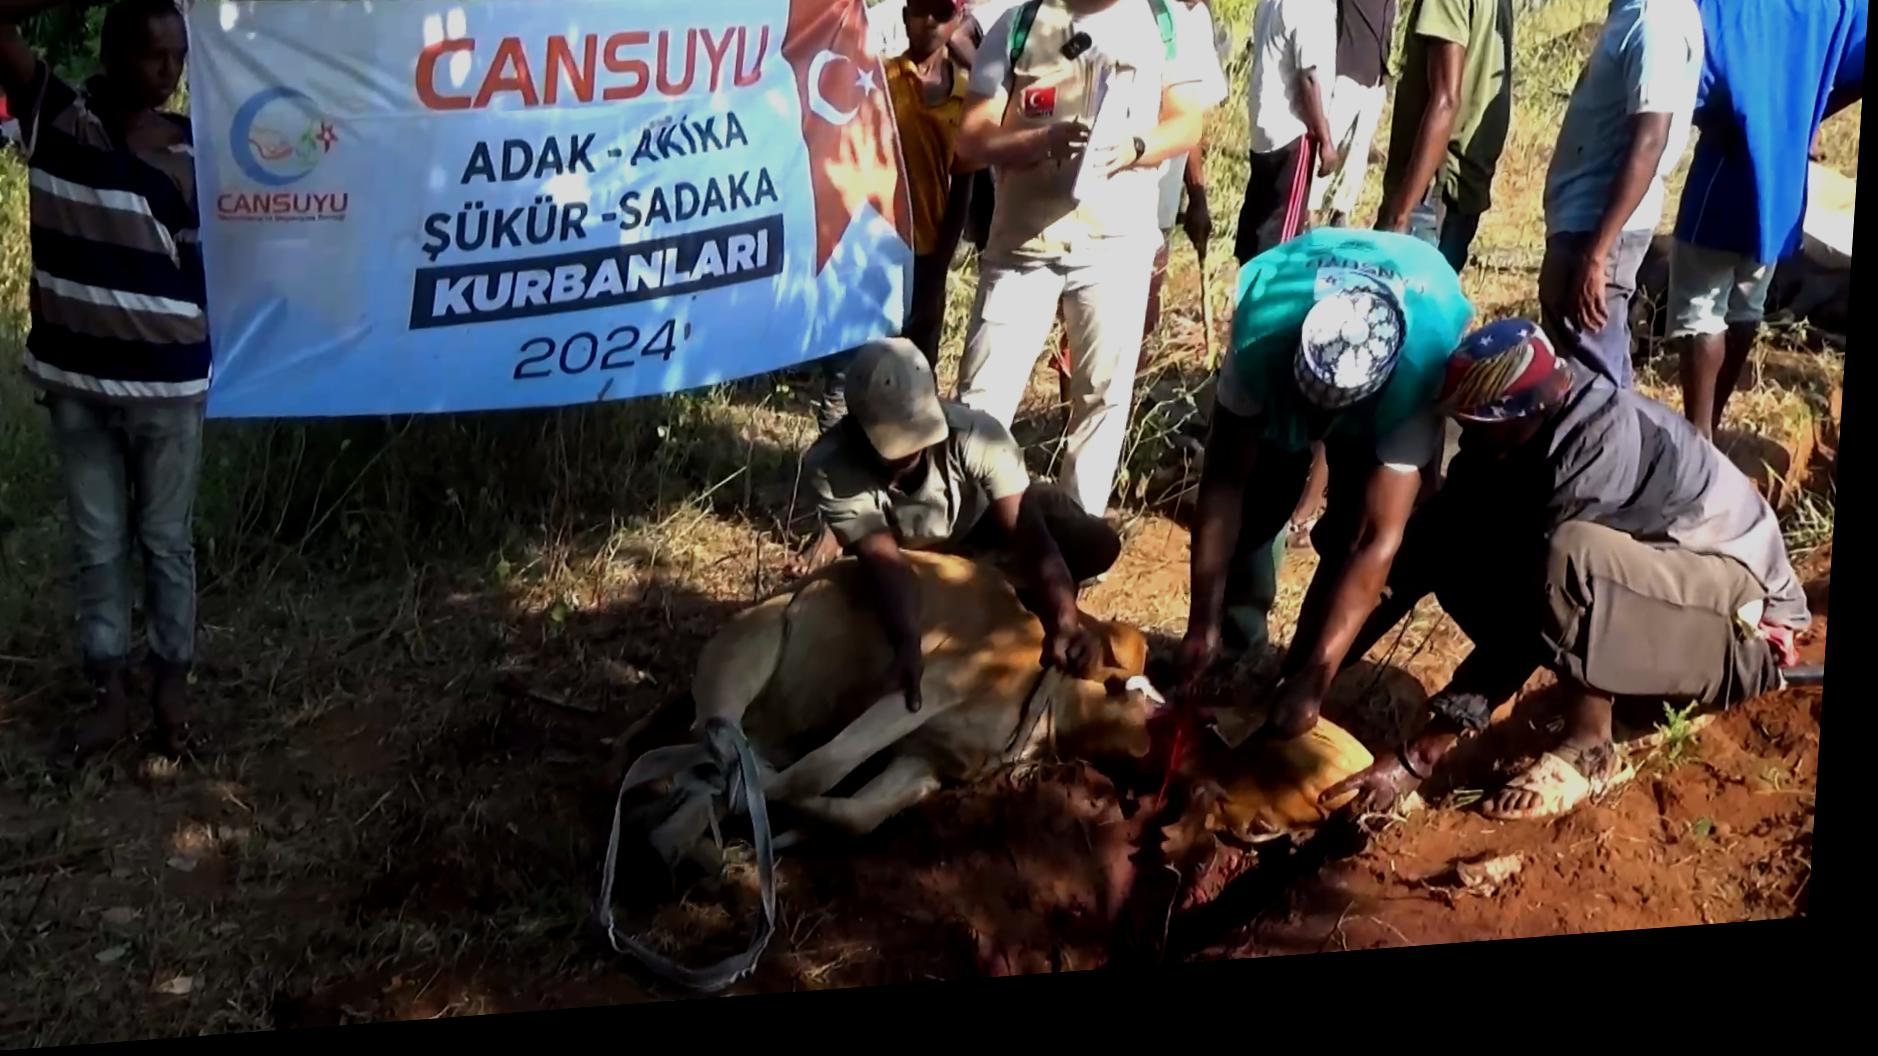Fire: (1161, 701, 1215, 825)
